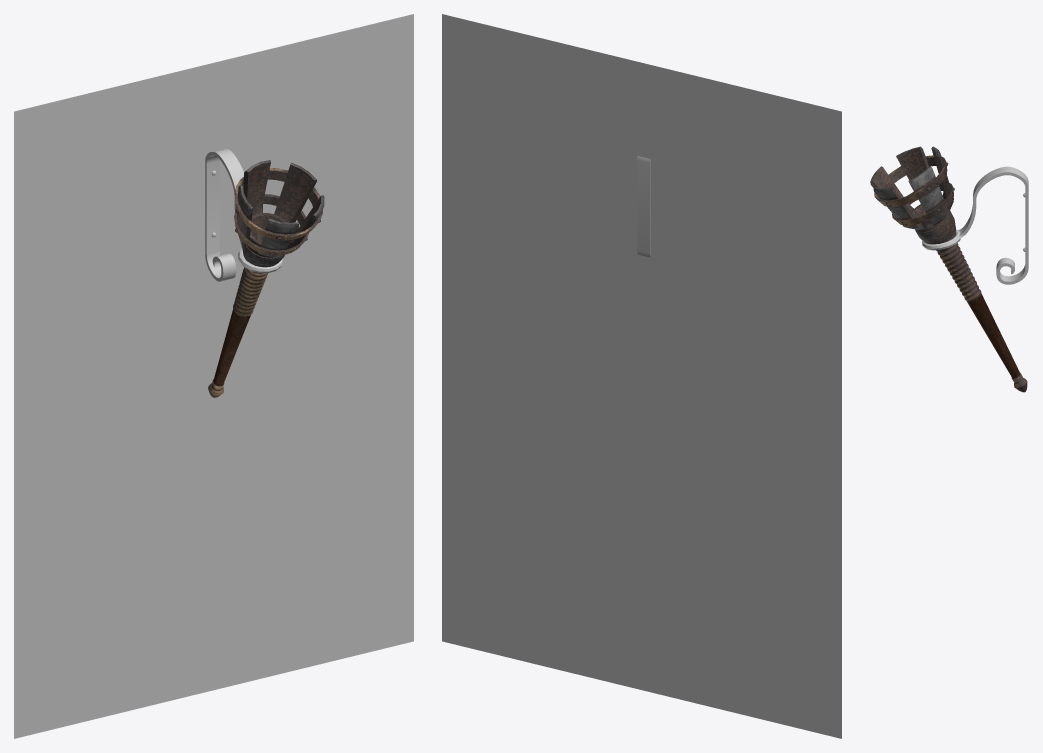
Rendered from Torchv2.fbx.
The picture shows the model from 3 angles, left to right: view 1: azimuth 30°, elevation 25°; view 2: azimuth 150°, elevation 25°; view 3: azimuth 270°, elevation 25°; orthographic projection. The views are drawn at different scales.
Parts seen in each view (by area): view 1: Wall, Torch, base; view 2: Wall, base; view 3: Torch, base.
Part boxes in pixels (<box>): Wall: <box>14,14,413,738</box>; Torch: <box>208,160,324,397</box>; base: <box>205,148,283,281</box>; Wall: <box>442,14,841,738</box>; base: <box>637,156,650,257</box>; Torch: <box>870,146,1027,392</box>; base: <box>922,166,1028,284</box>.
Bounding box in the file's own units: 100 × 150 × 38.89.
Materials: 3 (1 with a texture image).
